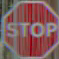Stop: (4, 3, 57, 50)
